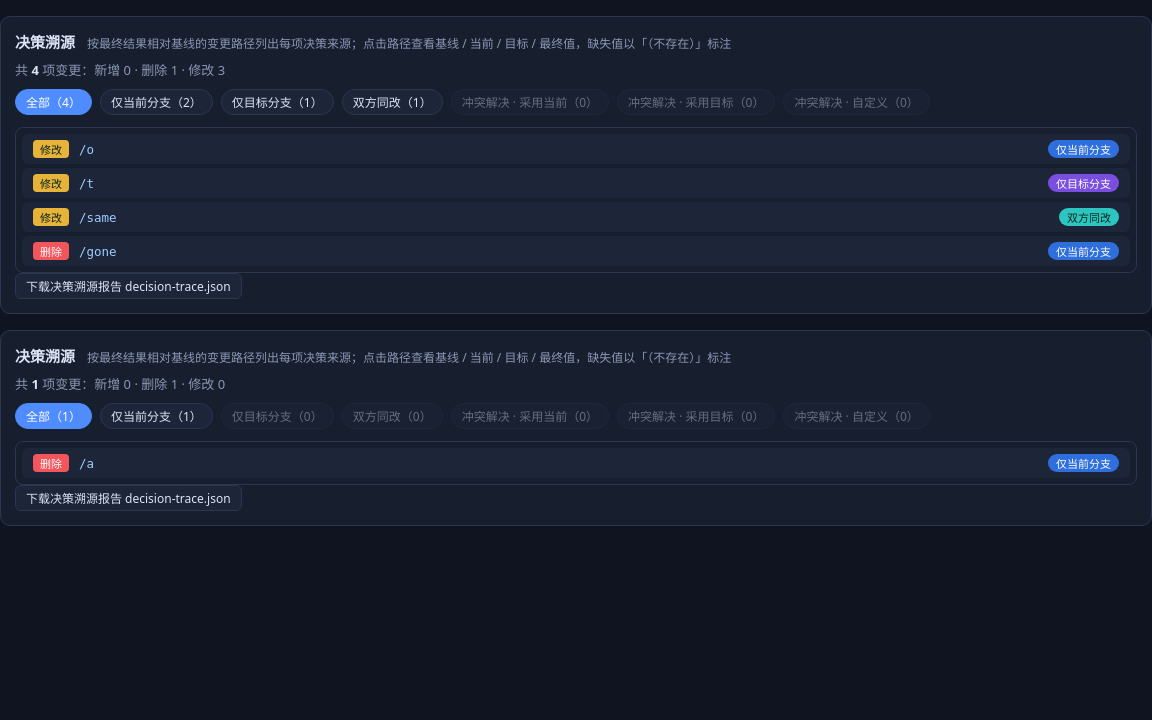
Scenario: DecisionTracePanel › 点击路径展开详情：基线 / 当前 / 目标 / 最终值，缺失标注（不存在）
The image size is (1152, 720).
Click the button with class "trace-row" showing "删除 /a 仅当前分支" at [51, 463], box [22,448,1130,478]
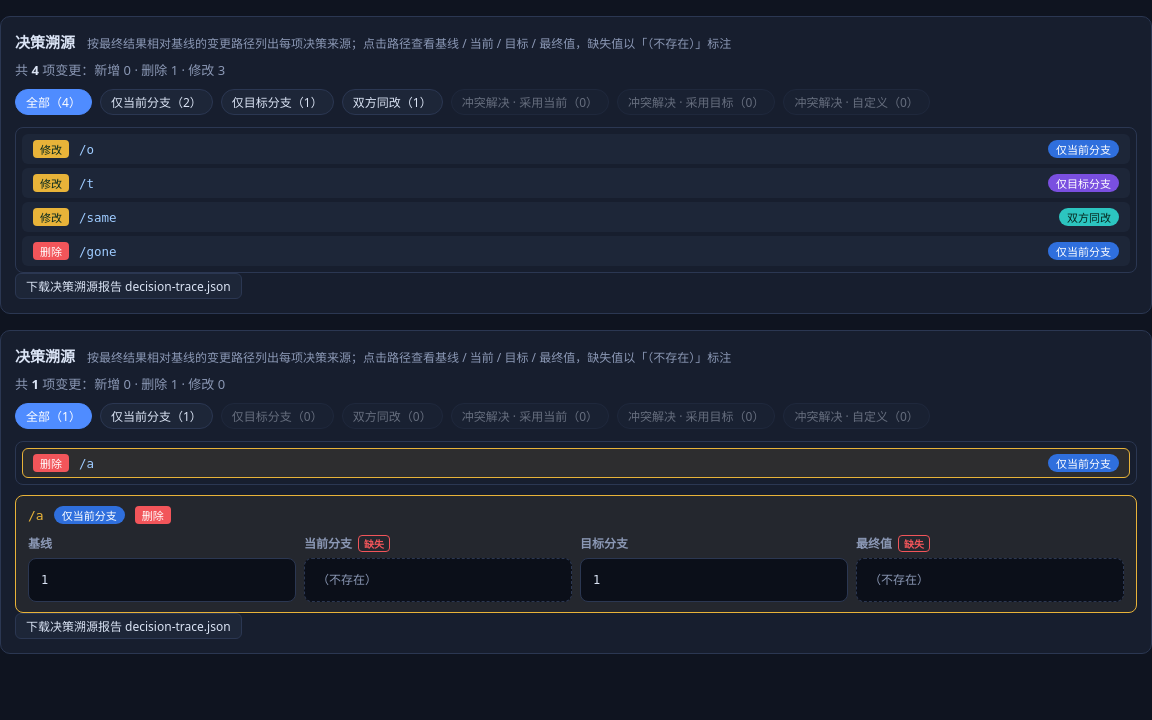
Result: the element with class "trace-detail" is shown at [15,495,1137,613]
Result: the text with class "trace-detail-pointer" reads "/a" at [28,508,44,522]
Result: the 3rd text with class "trace-change" reads "删除" at [142,508,164,523]
